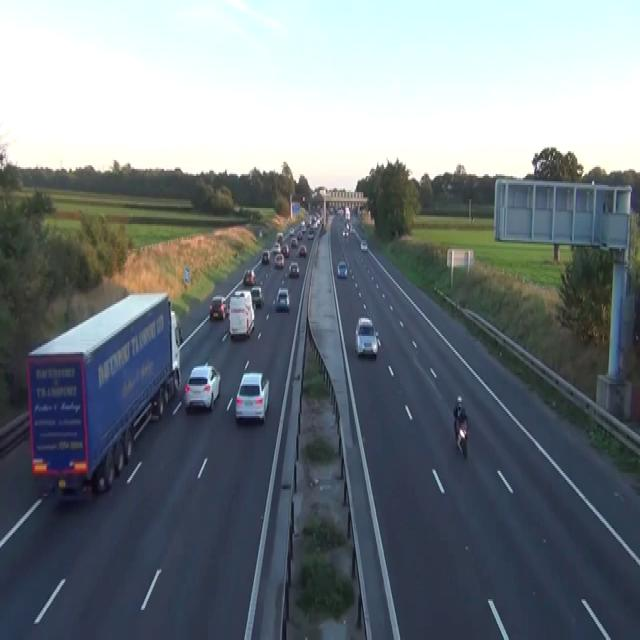Car: (182, 362, 220, 410), (234, 372, 269, 423), (354, 316, 380, 358), (453, 412, 468, 457), (170, 309, 183, 347), (209, 295, 227, 320), (150, 388, 163, 420), (275, 286, 290, 311), (234, 290, 253, 309), (250, 286, 264, 308), (336, 260, 347, 278), (243, 268, 255, 284), (274, 252, 284, 268), (288, 262, 299, 276), (270, 242, 281, 254), (261, 249, 270, 263), (281, 242, 289, 256), (298, 244, 307, 256), (360, 238, 367, 251), (344, 219, 351, 231), (276, 231, 283, 242), (290, 237, 297, 246), (300, 221, 306, 231), (307, 230, 314, 238), (273, 242, 280, 250), (342, 228, 348, 236), (321, 224, 326, 233), (329, 204, 334, 213), (337, 208, 343, 215), (289, 226, 294, 234), (297, 230, 302, 238), (259, 228, 262, 236)
Truck: (26, 290, 182, 500), (228, 288, 254, 340)
